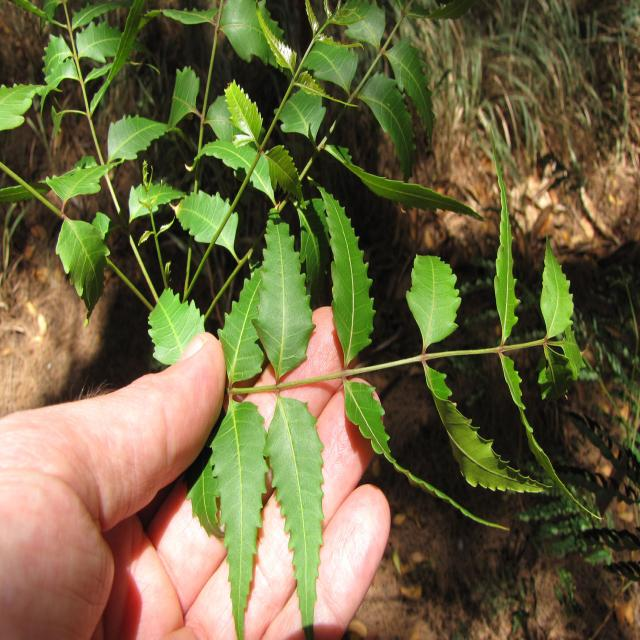Medicinal-Neem: (231, 148, 580, 640), (15, 0, 448, 170)
